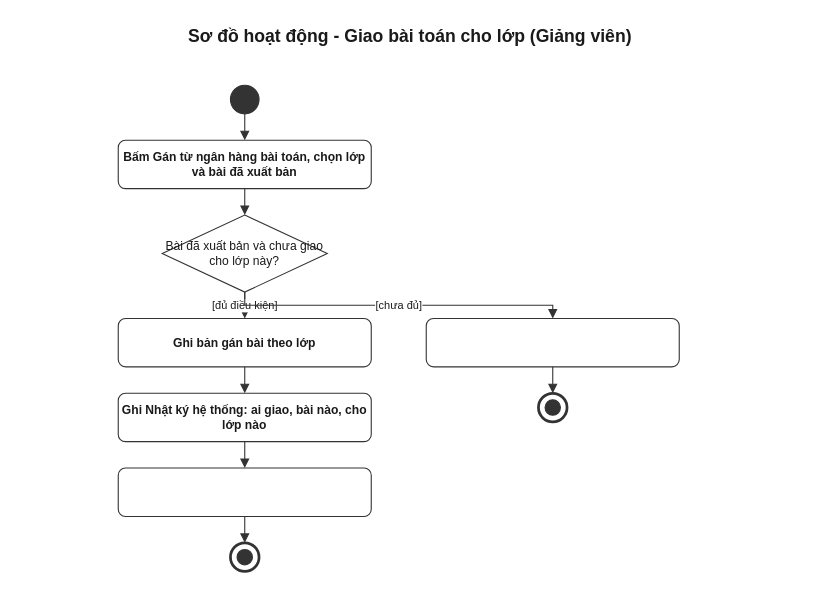
This 818x592 diagram has some shape labels left out. Each missing label, with the centre of its shape:
"Bài hiện trong danh sách bài giao; học viên của lớp thấy ở khối Bài tập lớp" goes at (244,491).
"Từ chối kèm lý do, không ghi dữ liệu" goes at (552,342).
